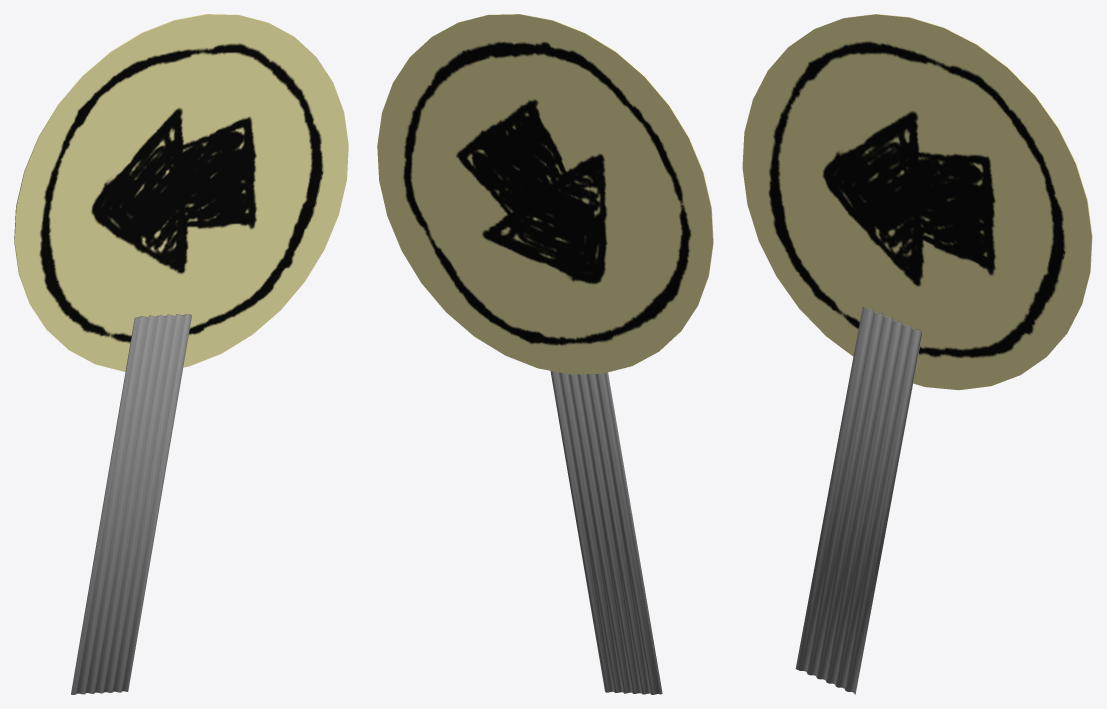
The model's file is Ani_sign.FBX.
The picture shows the model from 3 angles, left to right: view 1: azimuth 30°, elevation 25°; view 2: azimuth 150°, elevation 25°; view 3: azimuth 330°, elevation 25°; orthographic projection. The views are drawn at different scales.
Parts seen in each view (by area): view 1: Cylinder003, Dummy001; view 2: Cylinder003, Dummy001; view 3: Cylinder003, Dummy001.
Boxes of the visible parts, left/top/right/bottom form: Cylinder003: left=14, top=14, right=348, bottom=371; Dummy001: left=71, top=314, right=191, bottom=694; Cylinder003: left=377, top=14, right=713, bottom=374; Dummy001: left=550, top=371, right=662, bottom=694; Cylinder003: left=742, top=14, right=1092, bottom=390; Dummy001: left=795, top=307, right=922, bottom=694.
Size of the model in its own units: 209 by 393 by 3.81.
